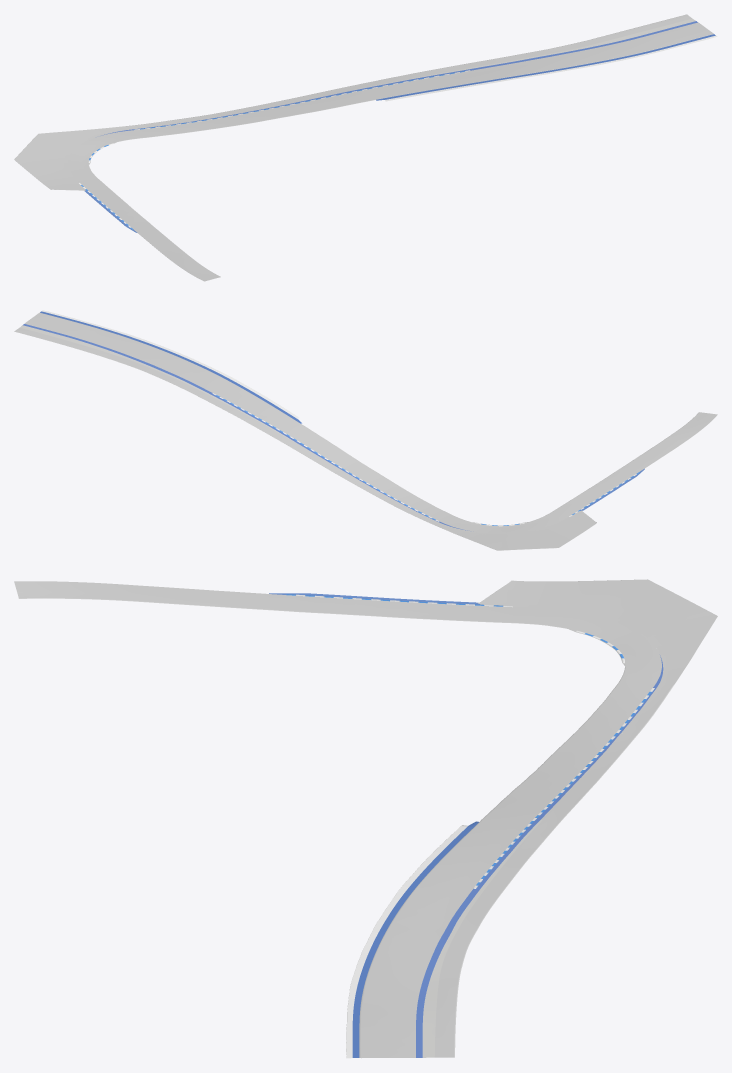
Rendered from track_road_sector1.dae.
The picture shows the model from 3 angles, top to bottom: view 1: azimuth 30°, elevation 25°; view 2: azimuth 150°, elevation 25°; view 3: azimuth 270°, elevation 25°; orthographic projection. The views are drawn at different scales.
Parts seen in each view (by area): view 1: road_track_sector1_a6000; view 2: road_track_sector1_a6000; view 3: road_track_sector1_a6000.
Boxes of the visible parts, x1,y1,x2,y2 form: road_track_sector1_a6000: [14, 14, 717, 281]; road_track_sector1_a6000: [14, 310, 717, 550]; road_track_sector1_a6000: [14, 579, 717, 1058].
Bounding box in the file's own units: 379 × 209 × 20.96.
